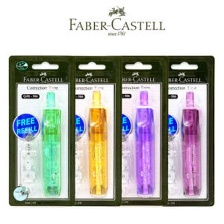book: (4, 53, 76, 210), (58, 53, 124, 212), (104, 53, 170, 208), (152, 54, 214, 208)
correction_fluid: (131, 89, 157, 198), (84, 88, 109, 197), (177, 89, 202, 197), (37, 90, 61, 197), (17, 132, 39, 198)
